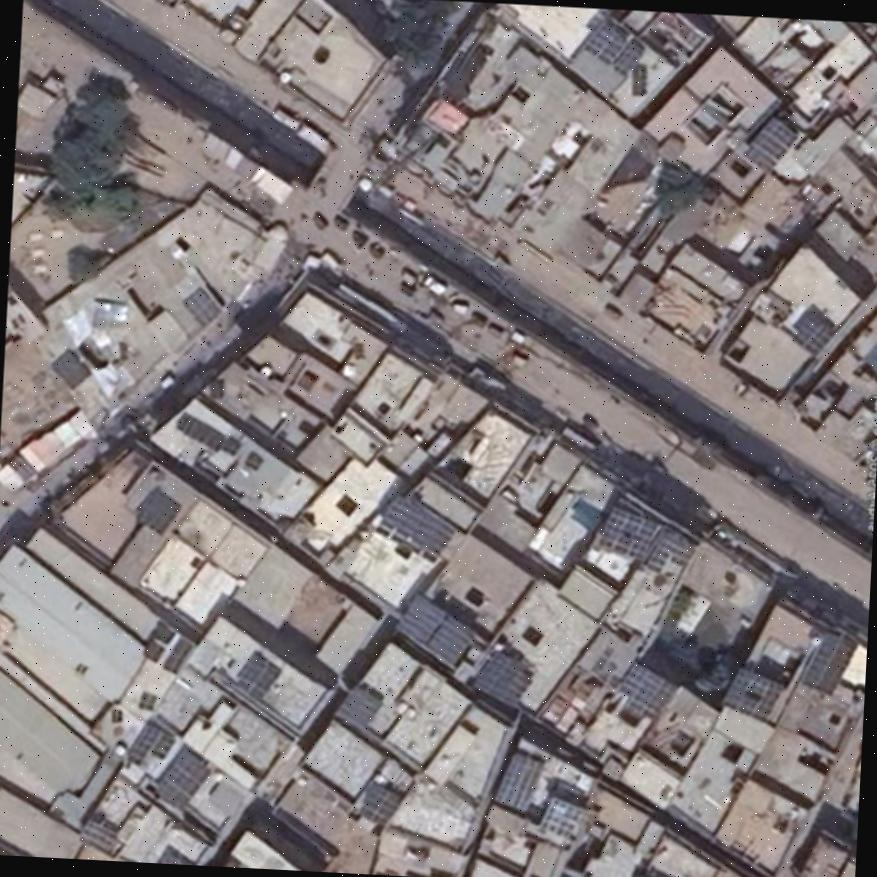Solarpanel: (396, 595, 474, 663), (381, 491, 454, 557), (151, 746, 206, 808), (802, 633, 856, 696), (585, 20, 645, 75), (743, 118, 799, 176), (619, 661, 677, 716), (471, 653, 530, 705), (599, 506, 657, 558), (723, 668, 783, 718), (496, 753, 543, 810), (643, 529, 694, 579), (126, 721, 175, 773), (136, 486, 182, 533), (793, 305, 836, 353), (234, 653, 276, 698), (338, 687, 381, 730), (539, 795, 582, 837), (358, 782, 399, 823), (183, 286, 219, 324), (163, 638, 192, 672), (151, 620, 174, 645), (141, 641, 160, 662), (139, 691, 156, 710)
